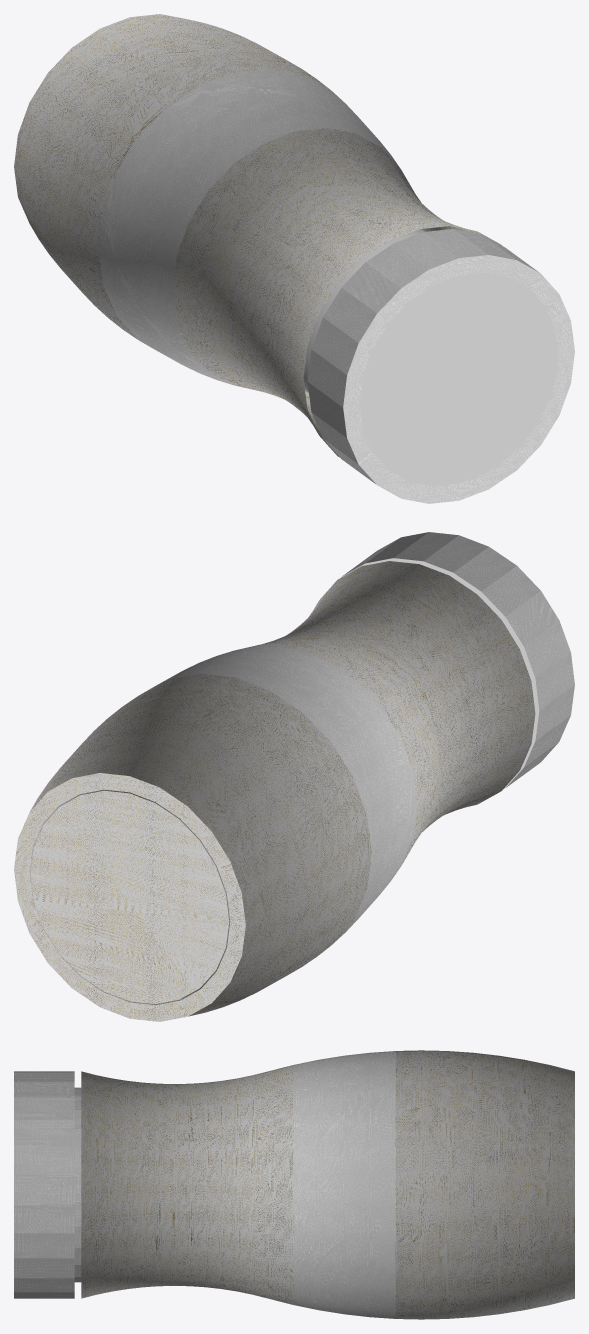
File: model_align.obj
3 renders of one model, top to bottom at view 1: azimuth 30°, elevation 25°; view 2: azimuth 150°, elevation 25°; view 3: azimuth 270°, elevation 25°, orthographic. The views are drawn at different scales.
Visible parts, largest first — view 1: mesh1_mesh1-geometry, mesh2_mesh2-geometry; view 2: mesh1_mesh1-geometry, mesh2_mesh2-geometry; view 3: mesh1_mesh1-geometry, mesh2_mesh2-geometry.
Part boxes in pixels (<box>): mesh1_mesh1-geometry: <box>14,14,501,457</box>; mesh2_mesh2-geometry: <box>303,229,574,503</box>; mesh1_mesh1-geometry: <box>14,561,535,1021</box>; mesh2_mesh2-geometry: <box>30,532,574,1003</box>; mesh1_mesh1-geometry: <box>81,1050,574,1319</box>; mesh2_mesh2-geometry: <box>14,1071,81,1298</box>.
Size of the model in its own units: 0.1113 by 0.1113 by 0.2311.
